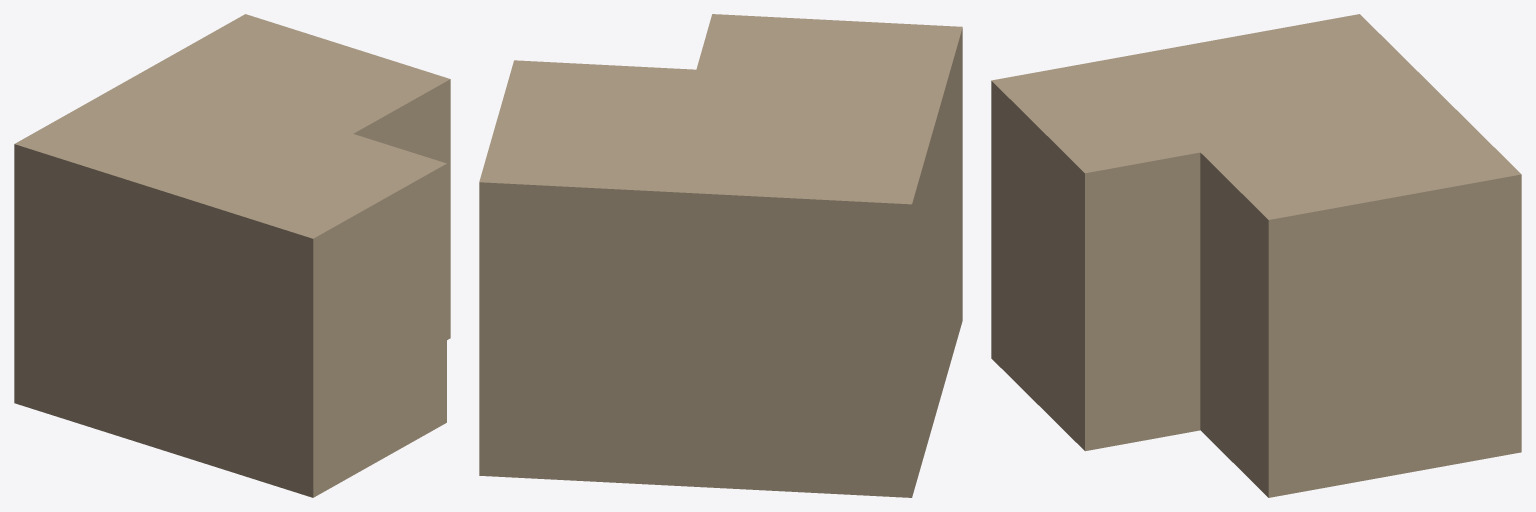
File: bld_106306721.dae
The picture shows the model from 3 angles, left to right: view 1: azimuth 30°, elevation 25°; view 2: azimuth 150°, elevation 25°; view 3: azimuth 270°, elevation 25°; orthographic projection. The views are drawn at different scales.
Parts seen in each view (by area): view 1: bld_106306721; view 2: bld_106306721; view 3: bld_106306721.
Part boxes in pixels (x1=…): bld_106306721: x1=14, y1=14, x2=450, y2=497; bld_106306721: x1=479, y1=14, x2=962, y2=497; bld_106306721: x1=991, y1=14, x2=1521, y2=497.
Size of the model in its own units: 12.72 by 13.84 by 8.
